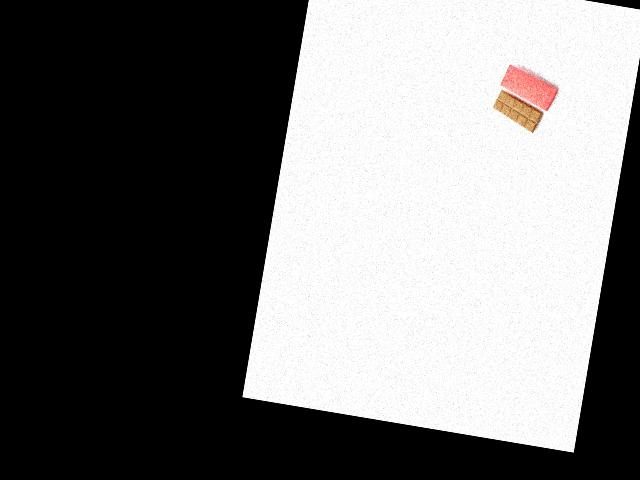chocolate: (489, 86, 548, 134)
